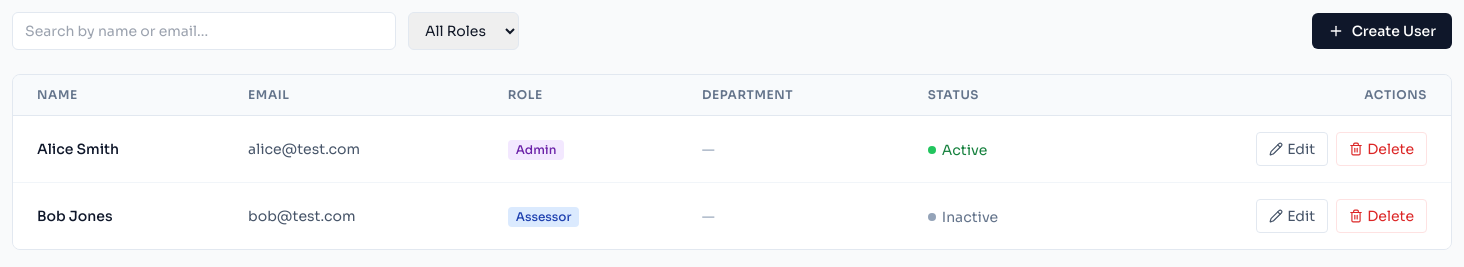
Scenario: UsersList › filters users by search text (email)
Type "bob@test" into the field with placeholder "Search by name or email...".
click(204, 31); type("bob@test")  # box [12,12,396,50]
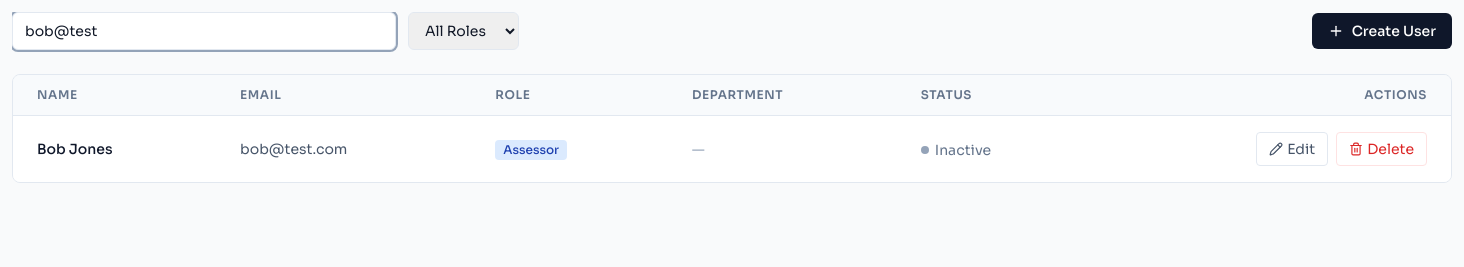
Expected: the text "Bob Jones" is shown, [13,116,216,182]
Result: the text "Alice Smith" is gone
